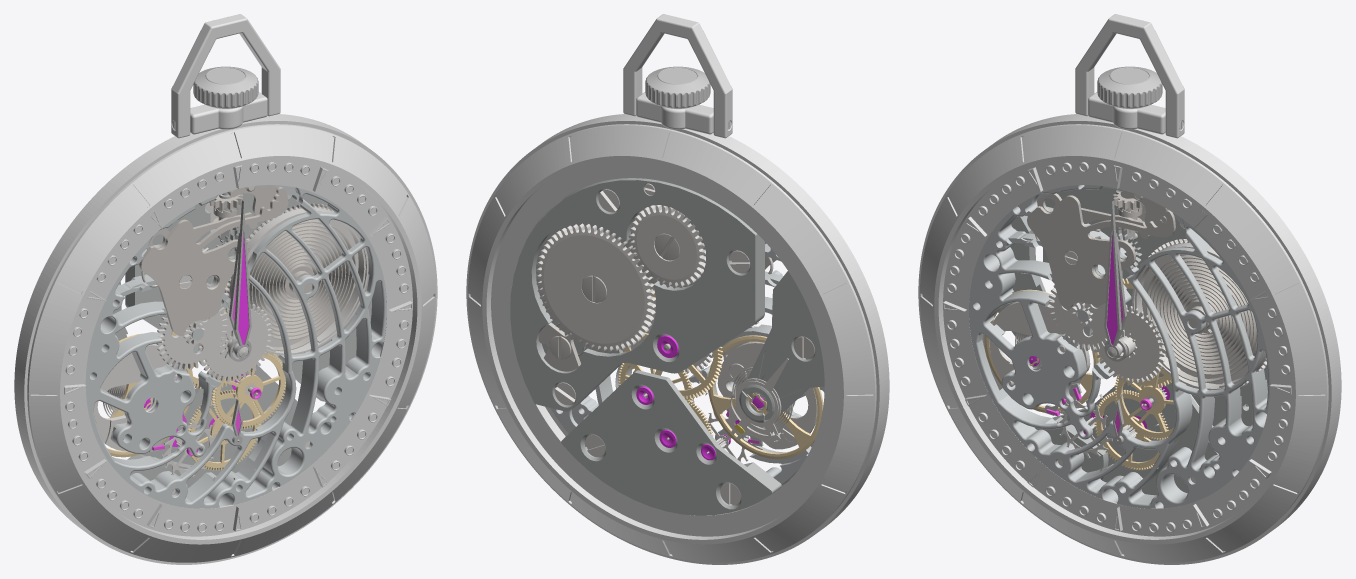
Rendered from ETA6497-1.glb.
The picture shows the model from 3 angles, left to right: view 1: azimuth 30°, elevation 25°; view 2: azimuth 150°, elevation 25°; view 3: azimuth 330°, elevation 25°; orthographic projection.
Parts seen in each view (by area): view 1: CaseTopBody, 6497_SkeltonFront, CaseWatchFace, CaseCenterRingBody, SettingLeverJumperBody, BarrelMainSpringBody, CaseCrownClipRing, BarrelDrum_Gear_Body, TrainWheelBridge, BarrelBridgeBody, Minute_Wheel_Body, HourWheel_Body (+11 smaller); view 2: CaseBottomBody, BarrelBridgeBody, CaseWatchRearFace, TrainWheelBridge, RatchetWheelBody, CaseCenterRingBody, BalancingBridge, CaseCrownClipRing, CrownWheelBody, 6497_SkeltonFront, PalletBridgeBody, WindingKnob (+8 smaller); view 3: CaseTopBody, 6497_SkeltonFront, CaseWatchFace, CaseCenterRingBody, SettingLeverJumperBody, BarrelMainSpringBody, TrainWheelBridge, CaseCrownClipRing, BarrelBridgeBody, BarrelDrum_Gear_Body, HourWheel_Body, WindingKnob (+13 smaller).
Boxes of the visible parts, bbox=[...] form: CaseTopBody: bbox=[27, 124, 435, 562]; 6497_SkeltonFront: bbox=[85, 185, 386, 508]; CaseWatchFace: bbox=[64, 160, 412, 536]; CaseCenterRingBody: bbox=[14, 114, 437, 564]; SettingLeverJumperBody: bbox=[139, 187, 288, 335]; BarrelMainSpringBody: bbox=[247, 219, 356, 351]; CaseCrownClipRing: bbox=[171, 14, 280, 138]; BarrelDrum_Gear_Body: bbox=[224, 203, 368, 355]; TrainWheelBridge: bbox=[127, 364, 297, 487]; BarrelBridgeBody: bbox=[125, 187, 371, 401]; Minute_Wheel_Body: bbox=[156, 303, 228, 370]; HourWheel_Body: bbox=[198, 304, 272, 381]; CaseBottomBody: bbox=[468, 124, 876, 562]; BarrelBridgeBody: bbox=[510, 178, 764, 411]; CaseWatchRearFace: bbox=[491, 160, 839, 536]; TrainWheelBridge: bbox=[561, 370, 781, 515]; RatchetWheelBody: bbox=[536, 223, 655, 352]; CaseCenterRingBody: bbox=[466, 114, 889, 564]; BalancingBridge: bbox=[747, 271, 824, 420]; CaseCrownClipRing: bbox=[623, 14, 732, 138]; CrownWheelBody: bbox=[628, 205, 705, 288]; 6497_SkeltonFront: bbox=[551, 192, 824, 485]; PalletBridgeBody: bbox=[717, 341, 817, 449]; WindingKnob: bbox=[645, 66, 710, 108]; CaseTopBody: bbox=[920, 124, 1328, 562]; 6497_SkeltonFront: bbox=[969, 185, 1270, 508]; CaseWatchFace: bbox=[943, 160, 1291, 536]; CaseCenterRingBody: bbox=[918, 114, 1341, 564]; SettingLeverJumperBody: bbox=[1027, 195, 1175, 310]; BarrelMainSpringBody: bbox=[1146, 255, 1257, 382]; TrainWheelBridge: bbox=[1035, 370, 1218, 495]; CaseCrownClipRing: bbox=[1075, 14, 1184, 138]; BarrelBridgeBody: bbox=[1043, 186, 1268, 426]; BarrelDrum_Gear_Body: bbox=[1132, 239, 1266, 390]; HourWheel_Body: bbox=[1091, 305, 1165, 384]; WindingKnob: bbox=[1097, 66, 1162, 108].
Size of the model in its own units: 4.8 by 5.94 by 0.6927.
